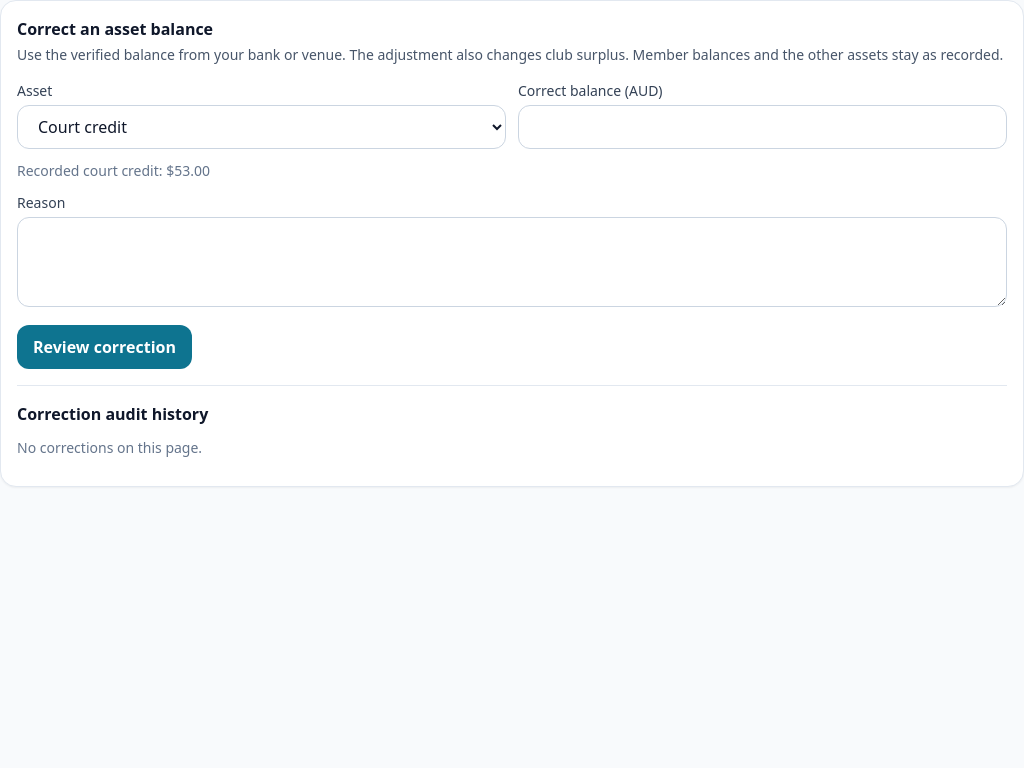
Test: BalanceCorrectionForm › rejects sub-cent precision and unchanged balances
Type "113.001" into the field labelled "Correct balance (AUD)" at (762, 127), box [518,105,1007,149]
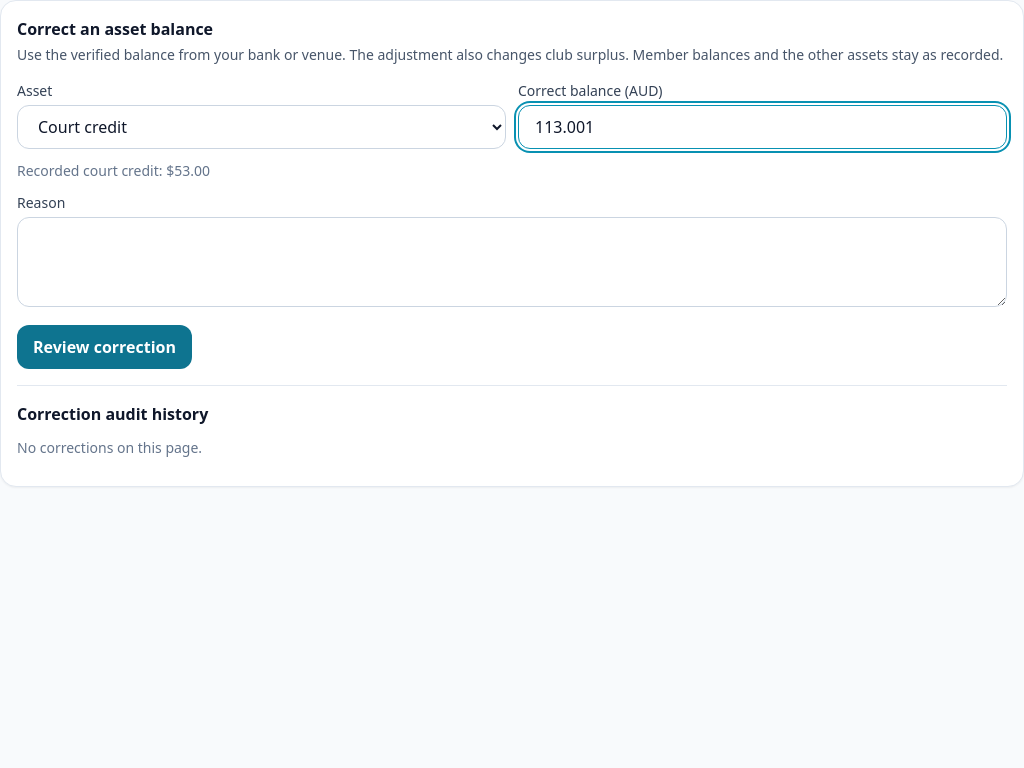
Type "Verified venue statement" into the text box labelled "Reason" at (512, 262), box [17,217,1007,307]
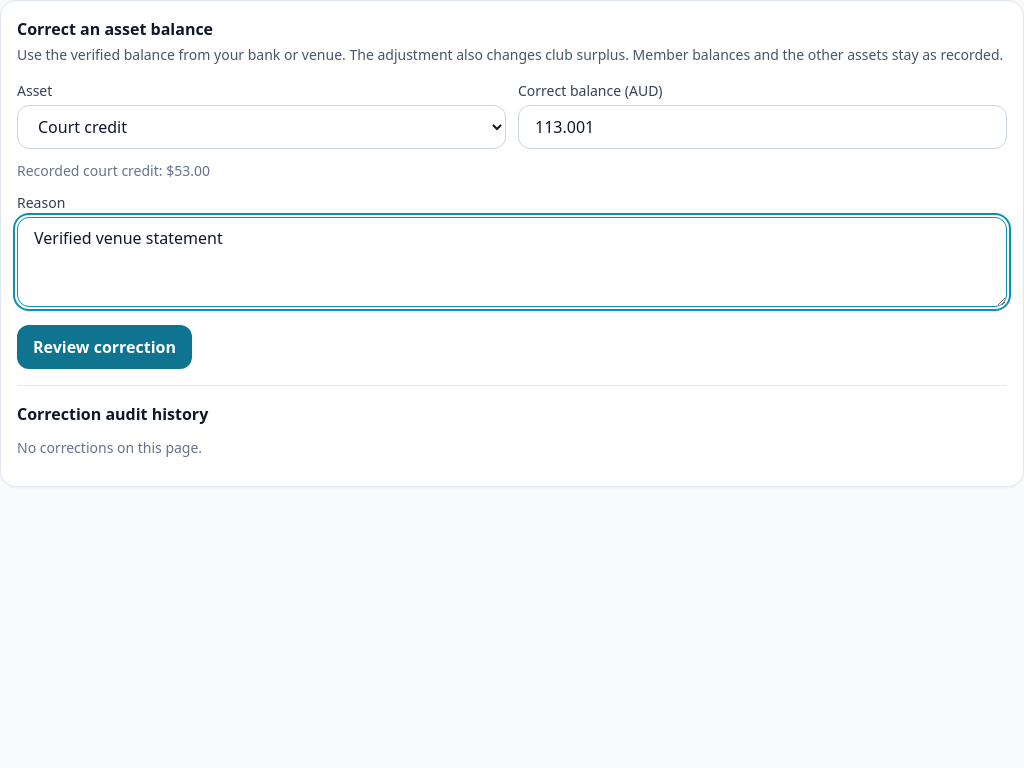
Click the button "Review correction" at (104, 347), box [17,325,192,369]
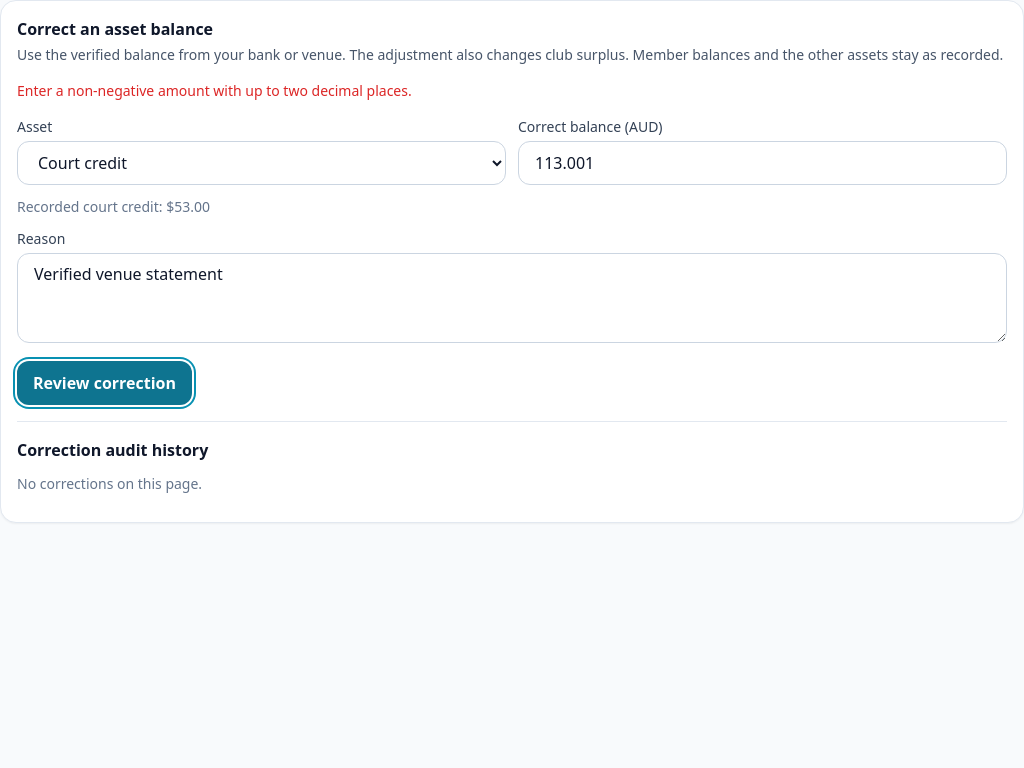
Expected: the message shows "two decimal places", [17,81,412,100]
Replace the text in the field labelled "Correct balance (AUD)" with "53" at (762, 163), box [518,141,1007,185]
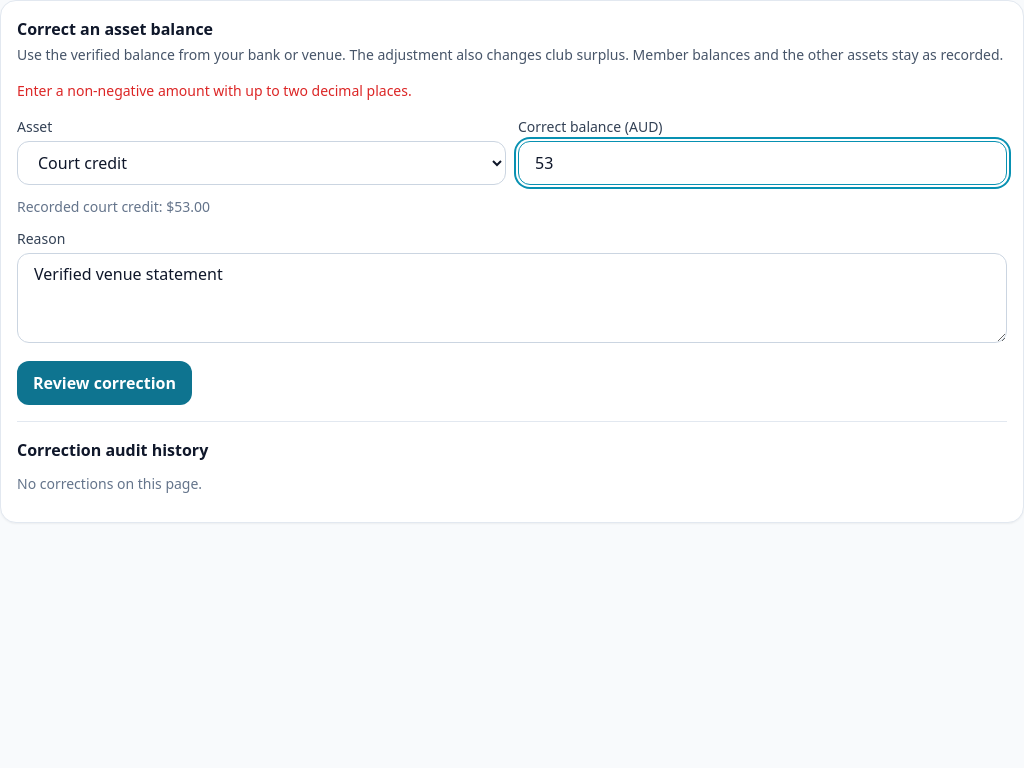
Click the button "Review correction" at (104, 383), box [17,361,192,405]
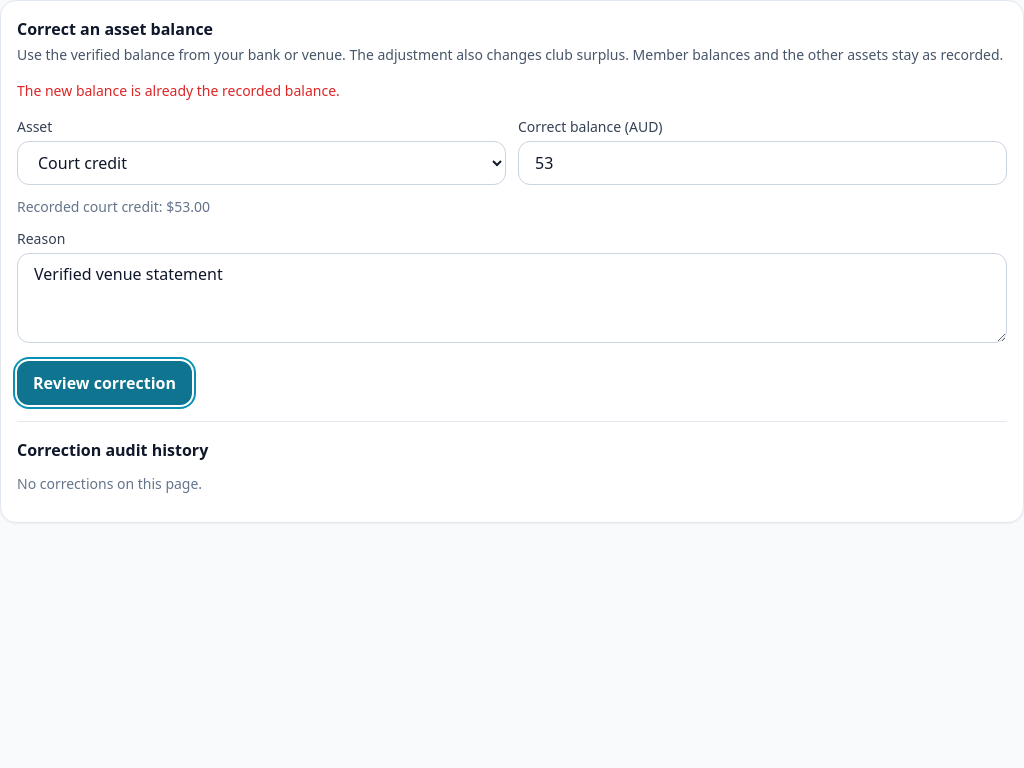
Expected: the message shows "already the recorded balance", [17,81,340,100]
